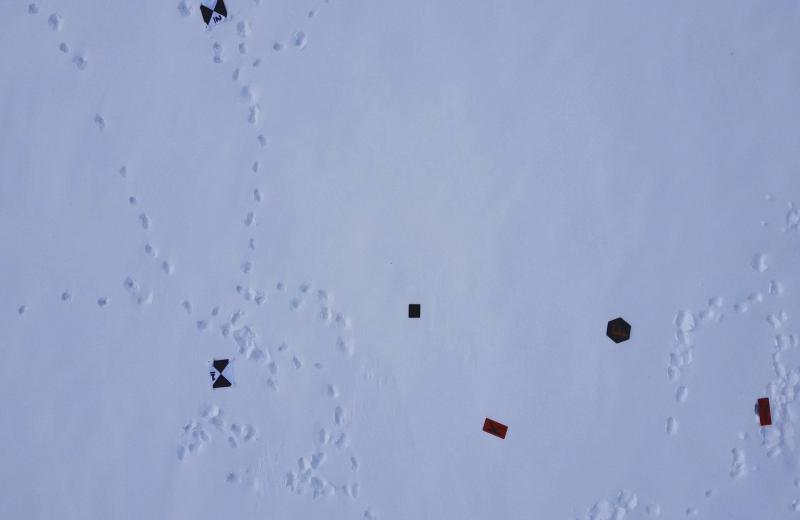Hexagon: (603, 313, 634, 348)
Rectangle: (483, 410, 511, 445), (750, 398, 778, 430)
Square: (404, 298, 426, 322)
